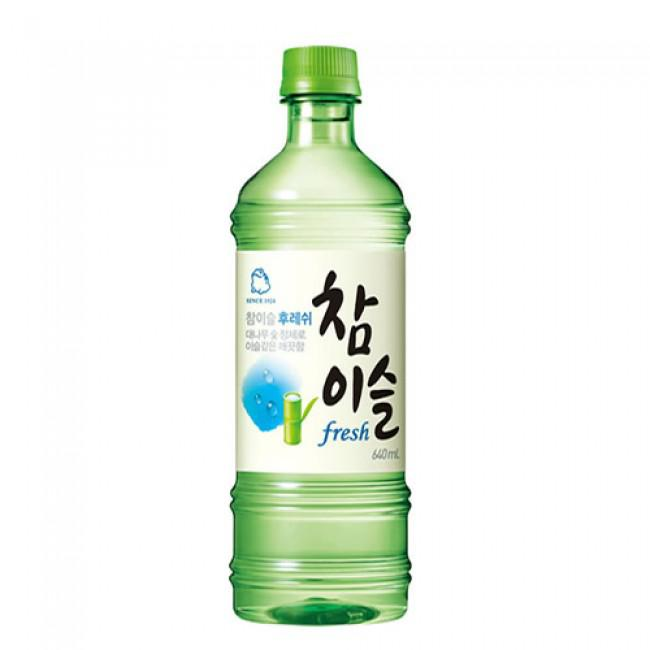soju: (224, 44, 422, 633)
